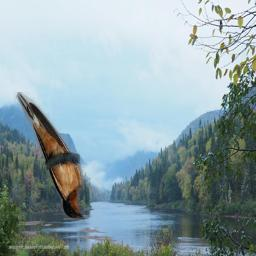Swallow: (14, 92, 85, 222)
